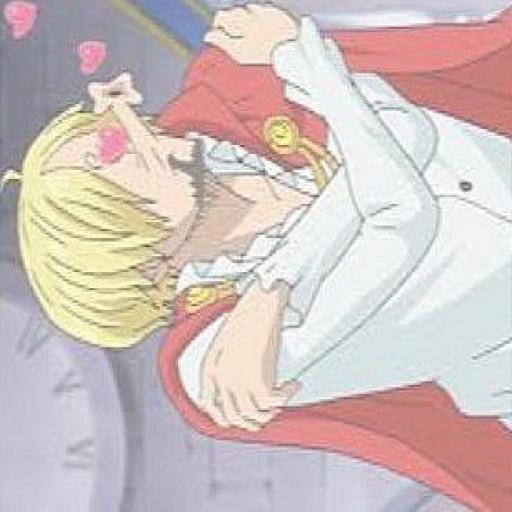sanji: (6, 0, 510, 507)
